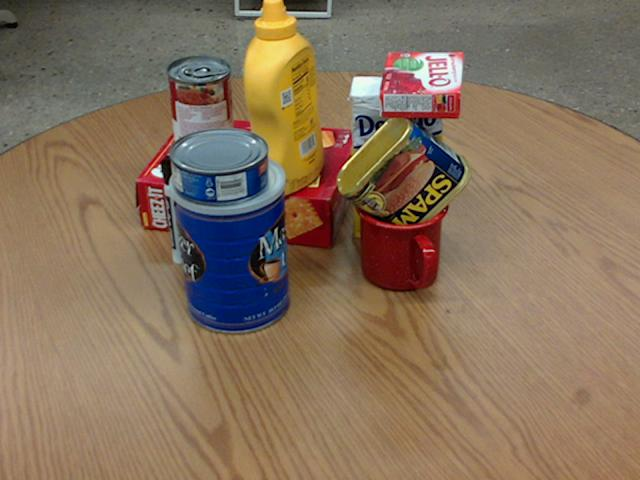cracker_box: (134, 115, 357, 248)
gelatin_box: (380, 51, 462, 117)
large_marker: (161, 156, 190, 264)
master_chef_can: (167, 147, 291, 332)
mug: (356, 180, 451, 292)
mustard_bottle: (244, 0, 323, 194)
potted_meat_can: (335, 111, 471, 242)
sugar_box: (350, 76, 444, 242)
tomato_soup_can: (166, 55, 234, 166)
tuna_fish_can: (168, 126, 268, 203)
